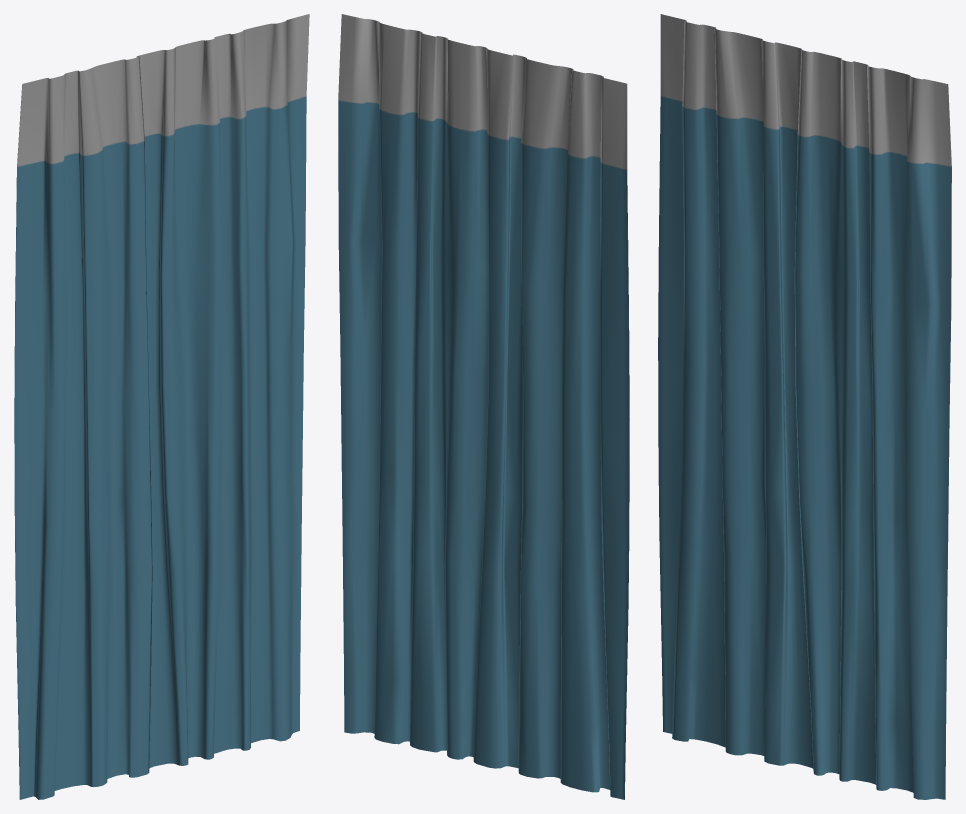
The model's file is Curtain.fbx.
The picture shows the model from 3 angles, left to right: view 1: azimuth 30°, elevation 25°; view 2: azimuth 150°, elevation 25°; view 3: azimuth 330°, elevation 25°; orthographic projection.
Visible parts, largest first — view 1: Curtain2; view 2: Curtain2; view 3: Curtain2.
Part boxes in pixels (bbox=[...]): Curtain2: bbox=[14, 14, 309, 799]; Curtain2: bbox=[338, 14, 629, 799]; Curtain2: bbox=[658, 14, 951, 799].
Bounding box in the file's own units: 133 × 311 × 6.6.
